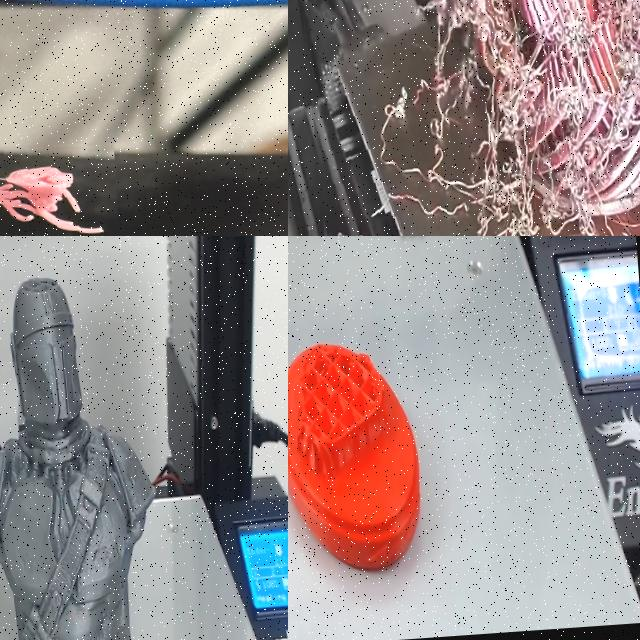spaghetti: (294, 0, 640, 236), (0, 138, 120, 236)
